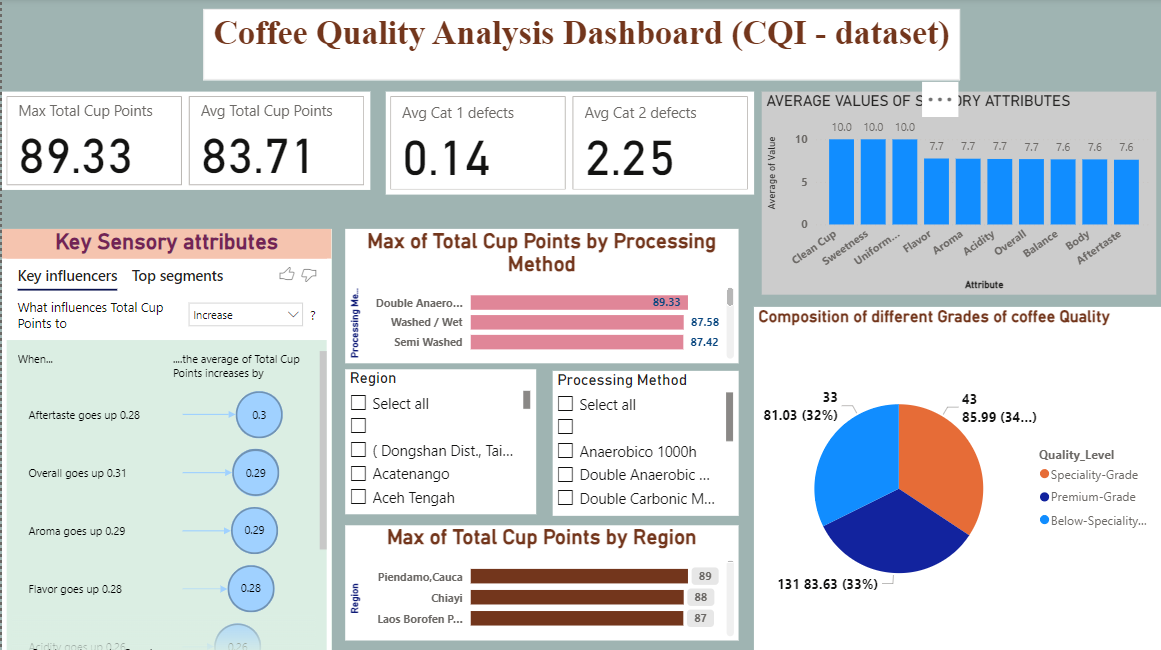

What the dashboard file says about the page in this screenshot:
{"tool":"powerbi","page":{"name":"Overview","canvas":[1280,720],"ordinal":0},"visuals":[{"type":"pieChart","title":"Composition of different Grades of coffee Quality","fields":{"Y":["Avg(df_arabica_clean.Total Cup Points)"],"Category":["df_arabica_clean.Quality_Level"],"Series":["df_arabica_clean.Quality_Count"]},"box":[828.3,340.3,452,379.8],"z":0},{"type":"clusteredColumnChart","title":"AVERAGE VALUES OF SENSORY ATTRIBUTES","fields":{"Y":["Avg(df_arabica_clean (2).Value)"],"Category":["df_arabica_clean (2).Attribute"]},"box":[836.9,103.1,434.8,223.4],"z":1000},{"type":"cardVisual","fields":{"Data":["Mesures.Max Total Cup Points","Mesures.Avg Total Cup Points"]},"box":[0,103.1,405.6,108.3],"z":2000},{"type":"textbox","box":[221.7,12,833.5,79.1],"z":3000},{"type":"keyDriversVisual","title":"Key Sensory attributes ","fields":{"Target":["df_arabica_clean.Total Cup Points"],"ExplainBy":["df_arabica_clean.Aroma","df_arabica_clean.Acidity","df_arabica_clean.Aftertaste","df_arabica_clean.Balance","df_arabica_clean.Body","df_arabica_clean.Flavor","df_arabica_clean.Overall"]},"box":[0,254.3,362.6,465.7],"z":4000},{"type":"cardVisual","fields":{"Data":["Mesures.Avg Cat 1 defects","Mesures.Avg Cat 2 defects"]},"box":[422.8,103.1,405.6,113.4],"z":5000},{"type":"barChart","title":"Max of Total Cup Points by Processing Method","fields":{"Y":["Max(df_arabica_clean.Total Cup Points)"],"Category":["df_arabica_clean.Processing Method"]},"box":[378.1,254.3,433.1,147.8],"z":6000},{"type":"barChart","fields":{"Category":["df_arabica_clean.Region"],"Y":["Max(df_arabica_clean.Total Cup Points)"]},"box":[378.1,580.9,433.1,127.2],"z":7000},{"type":"listSlicer","fields":{"Values":["df_arabica_clean.Region"]},"box":[378.1,409,209.7,159.8],"z":8000},{"type":"listSlicer","fields":{"Values":["df_arabica_clean.Processing Method"]},"box":[606.6,410.7,204.5,159.8],"z":9000}]}

Visuals, with their boxes in screenshot pixels (x1, y1, x2, y2), scaled from the page's 1280x720 canvas onto the 1161x650 screenshot:
"Composition of different Grades of coffee Quality" pieChart: {"left": 751, "top": 307, "right": 1160, "bottom": 649}
"AVERAGE VALUES OF SENSORY ATTRIBUTES" clusteredColumnChart: {"left": 759, "top": 93, "right": 1153, "bottom": 295}
cardVisual - Mesures.Max Total Cup Points x Mesures.Avg Total Cup Points: {"left": 0, "top": 93, "right": 368, "bottom": 191}
textbox: {"left": 201, "top": 11, "right": 957, "bottom": 82}
"Key Sensory attributes " keyDriversVisual: {"left": 0, "top": 230, "right": 329, "bottom": 649}
cardVisual - Mesures.Avg Cat 1 defects x Mesures.Avg Cat 2 defects: {"left": 383, "top": 93, "right": 751, "bottom": 195}
"Max of Total Cup Points by Processing Method" barChart: {"left": 343, "top": 230, "right": 736, "bottom": 363}
barChart - df_arabica_clean.Region x Max(df_arabica_clean.Total Cup Points): {"left": 343, "top": 524, "right": 736, "bottom": 639}
listSlicer - df_arabica_clean.Region: {"left": 343, "top": 369, "right": 533, "bottom": 514}
listSlicer - df_arabica_clean.Processing Method: {"left": 550, "top": 371, "right": 736, "bottom": 515}
